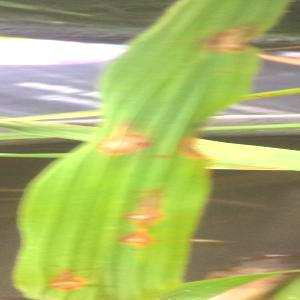1 RiceBlast: (196, 15, 266, 69), (95, 109, 152, 166), (117, 177, 166, 227), (44, 259, 92, 300), (111, 228, 164, 262)
